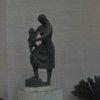Statue: (20, 6, 54, 84)
